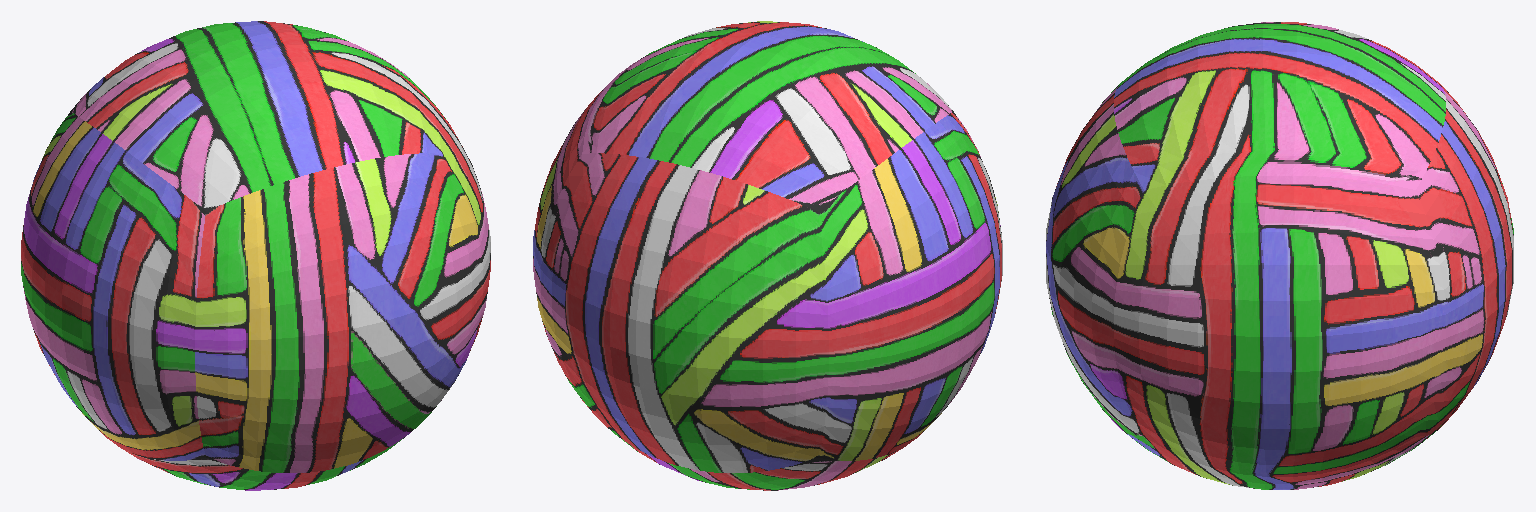
3 views of the same model, side by side, from view 1: azimuth 30°, elevation 25°; view 2: azimuth 150°, elevation 25°; view 3: azimuth 270°, elevation 25° (orthographic).
Visible parts, largest first — view 1: Cube_Cube.002; view 2: Cube_Cube.002; view 3: Cube_Cube.002.
Boxes of the visible parts, <box> form: Cube_Cube.002: <box>21,21,490,490</box>; Cube_Cube.002: <box>533,21,1002,490</box>; Cube_Cube.002: <box>1046,22,1513,489</box>.
Size of the model in its own units: 0.8607 by 0.8607 by 0.8607.
1 materials, 1 textured.